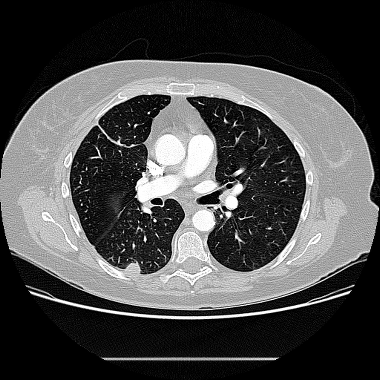nodule: (126, 262, 140, 276)
